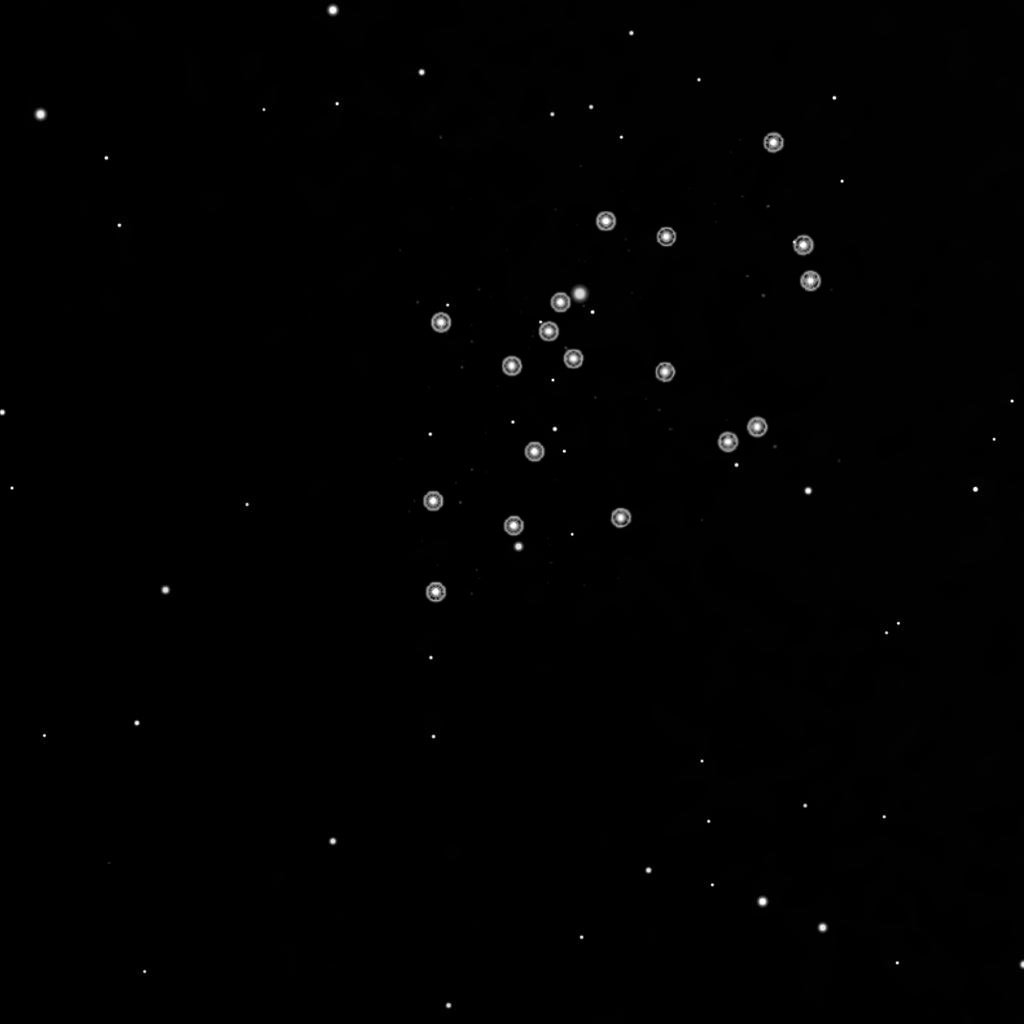canis_major: (497, 204, 681, 381)
